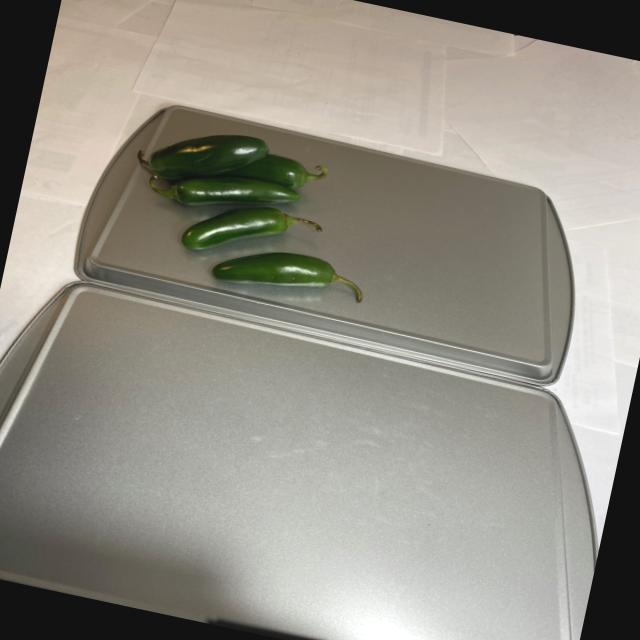chilli: (112, 112, 390, 319)
